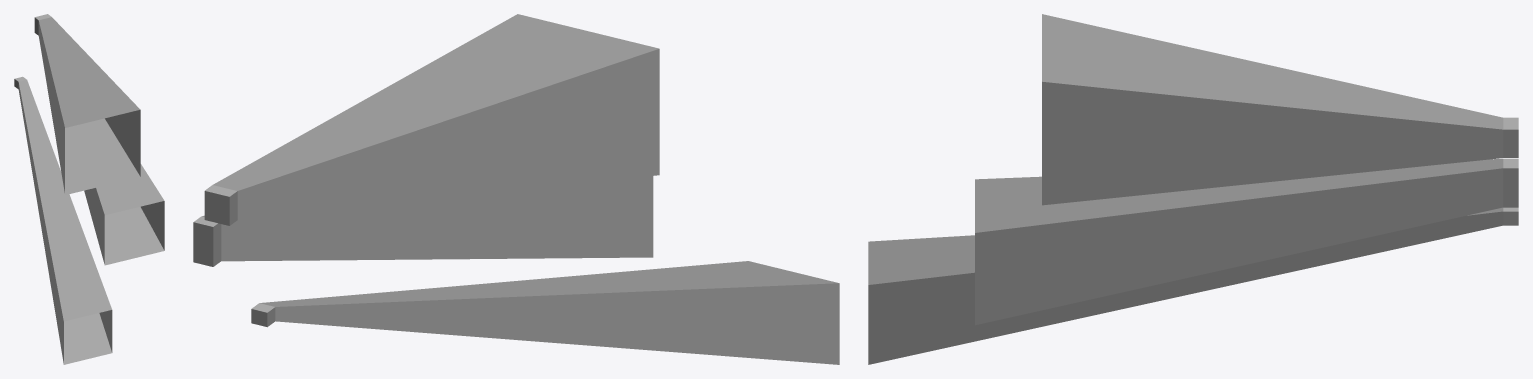
The model's file is AI_FX_Church_Lightbeams.fbx.
3 views of the same model, side by side, from view 1: azimuth 30°, elevation 25°; view 2: azimuth 150°, elevation 25°; view 3: azimuth 270°, elevation 25° (orthographic). The views are drawn at different scales.
Visible parts, largest first — view 1: AI_FX_Church_Lightbeams; view 2: AI_FX_Church_Lightbeams; view 3: AI_FX_Church_Lightbeams.
Boxes of the visible parts, left/top/right/bottom form: AI_FX_Church_Lightbeams: left=14, top=14, right=164, bottom=364; AI_FX_Church_Lightbeams: left=193, top=14, right=839, bottom=364; AI_FX_Church_Lightbeams: left=868, top=14, right=1518, bottom=364.
Bounding box in the file's own units: 4.84 × 5.3 × 8.9.
